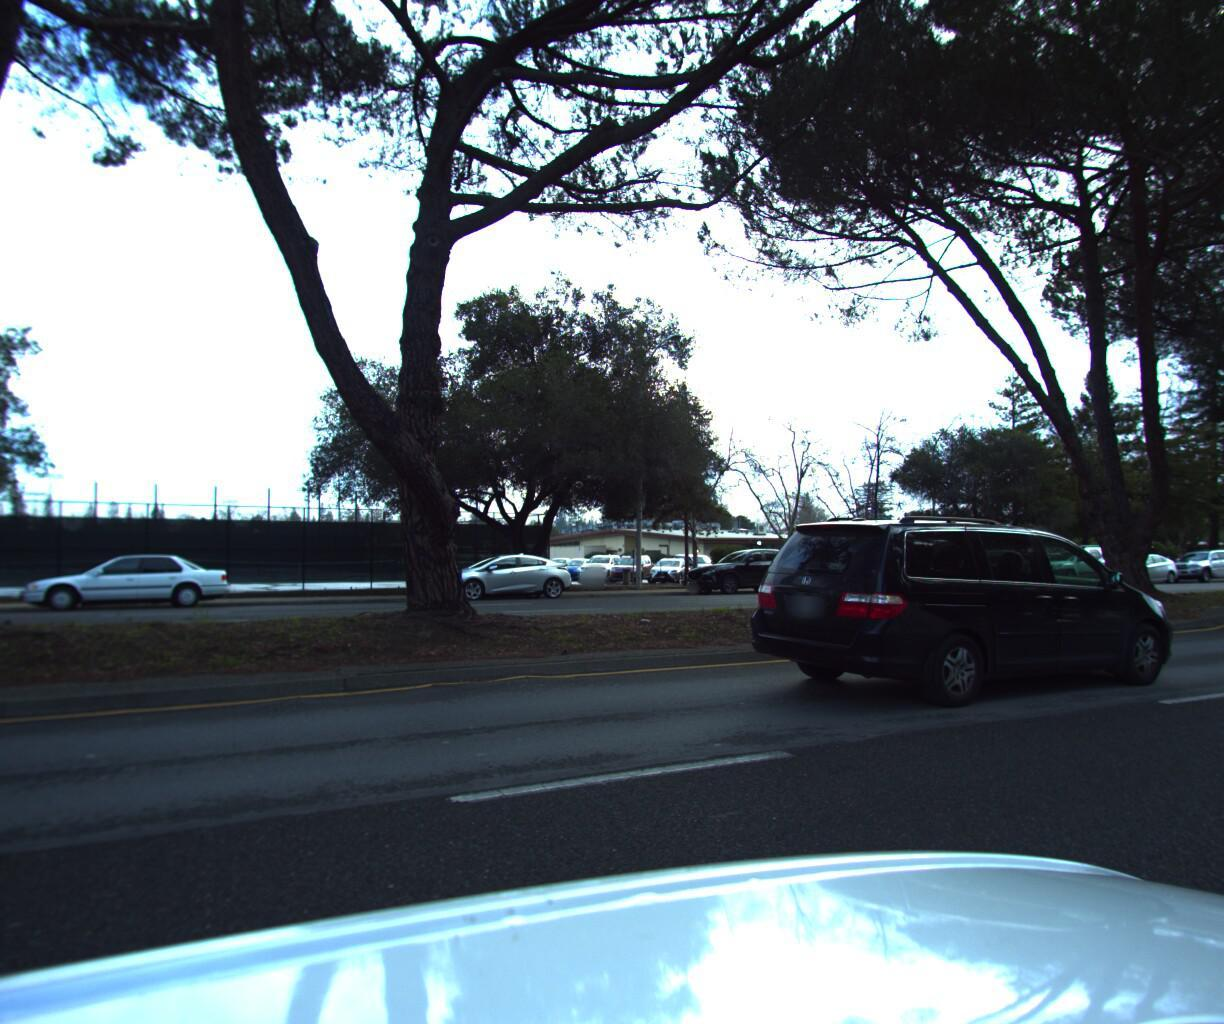car: (716, 509, 1191, 725), (14, 550, 238, 619), (418, 548, 582, 604), (674, 542, 810, 594), (1016, 537, 1118, 582), (1084, 547, 1178, 582), (1148, 540, 1224, 580), (1219, 546, 1224, 578)
